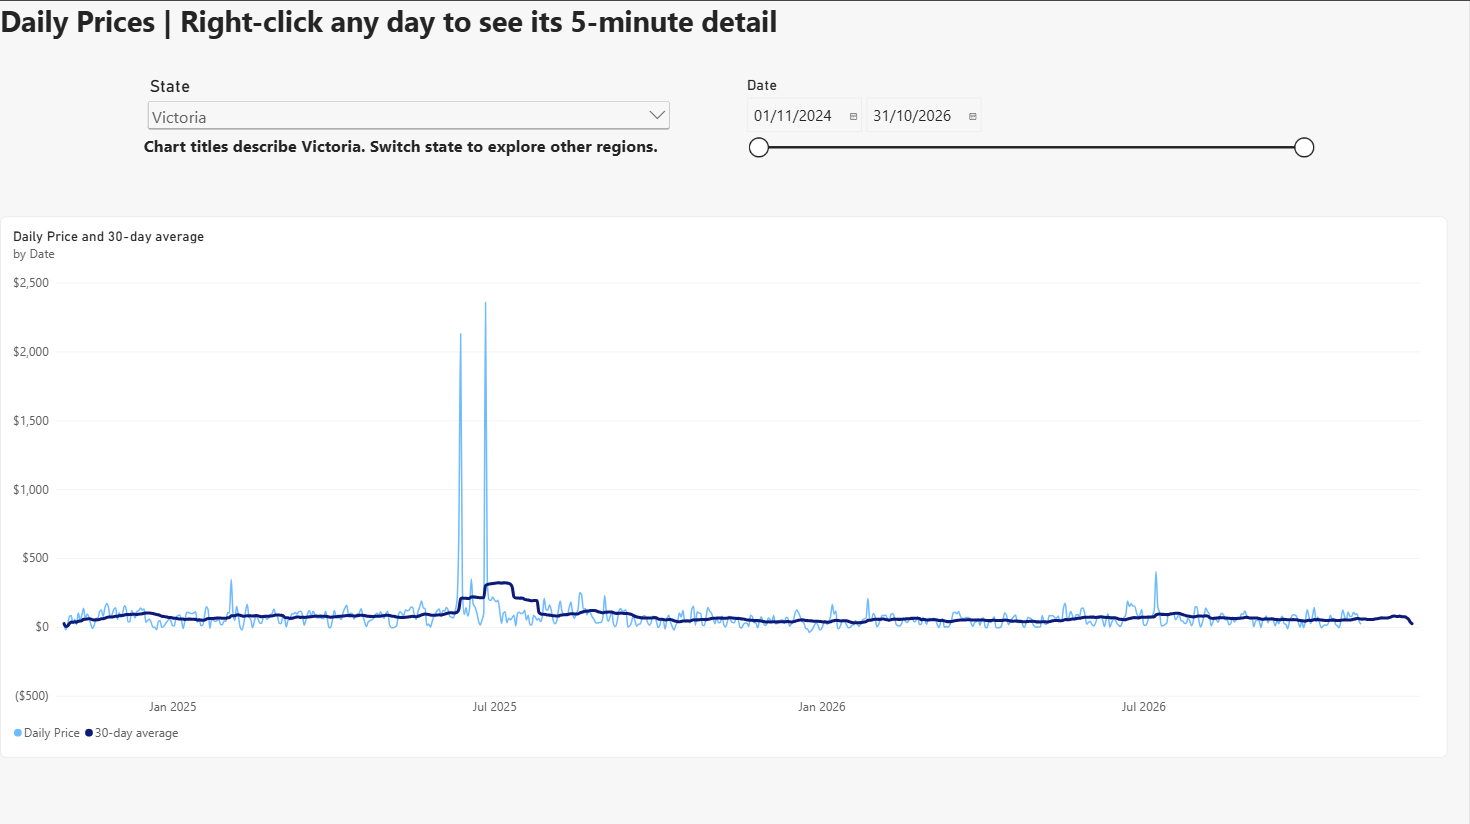

What the dashboard file says about the page in this screenshot:
{"tool":"powerbi","page":{"name":"Daily Prices","canvas":[1920,1080],"ordinal":5},"visuals":[{"type":"slicer","fields":{"Values":["DimDate.Date"]},"box":[967.6,98,752.2,184],"z":0},{"type":"textbox","box":[0,0,1720.4,98],"z":1000},{"type":"slicer","fields":{"Values":["DimRegion.State"]},"box":[187.7,98,692.9,75.6],"z":1000,"group":"g1"},{"type":"lineChart","fields":{"Category":["DimDate.Date"],"Y":["_Measures.VWAP","_Measures.VWAP 30D Avg"]},"box":[0,281.5,1891.4,706.9],"z":2000},{"type":"group","id":"g1","title":"Group 1","box":[187.7,98,692.3,108.4],"z":3000},{"type":"textbox","box":[187.7,173.6,692.9,32.7],"z":10000,"group":"g1"}]}

Visuals, with their boxes in screenshot pixels (x1, y1, x2, y2), scaled from the page's 1920x1080 canvas onto the 1470x824 screenshot:
slicer - DimDate.Date: bbox(741, 75, 1317, 215)
textbox: bbox(0, 0, 1317, 75)
slicer - DimRegion.State: bbox(144, 75, 674, 132)
lineChart - DimDate.Date x _Measures.VWAP: bbox(0, 215, 1448, 754)
"Group 1" group: bbox(144, 75, 674, 157)
textbox: bbox(144, 132, 674, 157)
